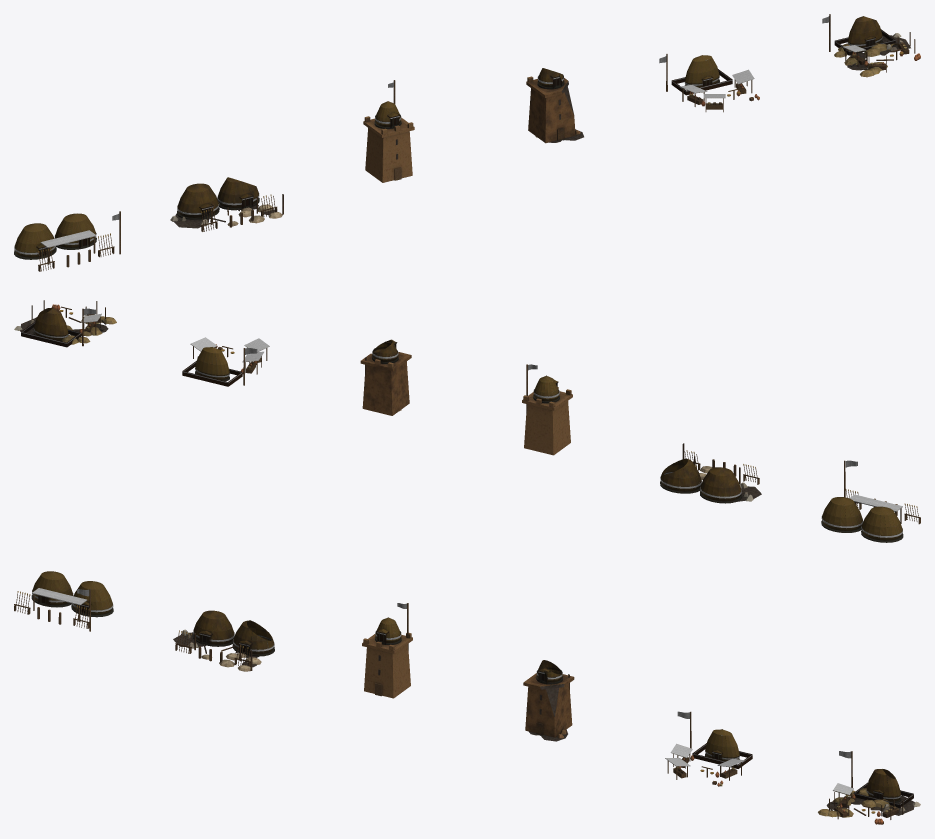
The model's file is rts-bronze-eastafrica.glb.
3 renders of one model, top to bottom at view 1: azimuth 30°, elevation 25°; view 2: azimuth 150°, elevation 25°; view 3: azimuth 330°, elevation 25°, orthographic.
Parts seen in each view (by area): view 1: LOD0.001, LOD0.002, LOD0, LOD0.003, LOD0.005, LOD0.004; view 2: LOD0, LOD0.001, LOD0.002, LOD0.003, LOD0.005, LOD0.004; view 3: LOD0.001, LOD0.002, LOD0.003, LOD0.005, LOD0, LOD0.004.
Boxes of the visible parts, x1,y1,x2,y2 form: LOD0.001: (170, 177, 283, 231); LOD0.002: (363, 80, 414, 182); LOD0: (14, 211, 120, 271); LOD0.003: (526, 68, 583, 143); LOD0.005: (822, 14, 920, 77); LOD0.004: (659, 54, 759, 112); LOD0: (821, 460, 920, 542); LOD0.001: (660, 443, 761, 503); LOD0.002: (522, 364, 572, 455); LOD0.003: (360, 339, 411, 415); LOD0.005: (14, 300, 116, 347); LOD0.004: (182, 337, 269, 386); LOD0.001: (173, 610, 274, 671); LOD0.002: (362, 603, 412, 698); LOD0.003: (523, 660, 574, 741); LOD0.005: (818, 751, 920, 824); LOD0: (14, 571, 113, 631); LOD0.004: (665, 711, 752, 786).
Size of what is drawn, in the model's own units: 16.4 by 1.48 by 1.36.
Materials: 2 (2 with a texture image).
